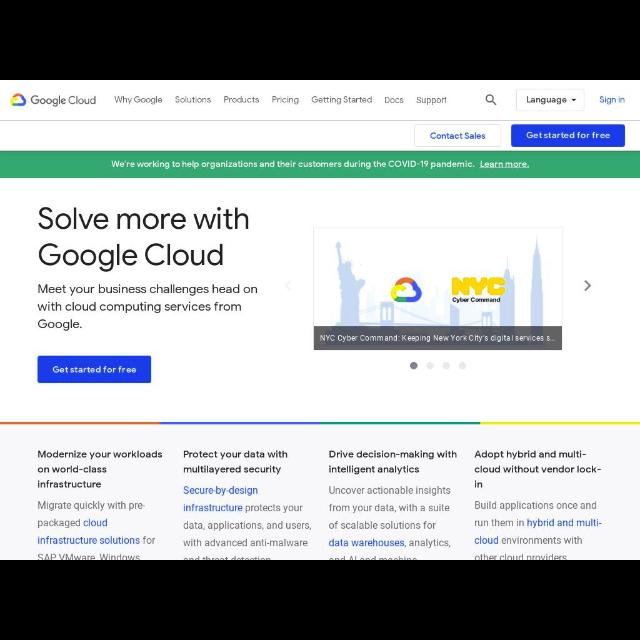icon: (582, 278, 592, 292), (486, 94, 496, 106), (570, 96, 578, 104)
image: (313, 228, 563, 349), (12, 92, 26, 108)
link: (38, 534, 140, 546), (185, 484, 258, 500), (330, 536, 404, 548), (528, 518, 602, 526), (183, 503, 243, 512), (480, 160, 530, 170), (82, 516, 110, 530), (474, 536, 502, 546)
multitab: (107, 84, 455, 114)
pageindicator: (409, 361, 468, 372)
spinner: (516, 89, 584, 113)
text: (35, 204, 251, 272), (35, 284, 259, 334), (328, 484, 452, 560), (184, 485, 310, 559), (473, 501, 603, 559), (36, 501, 156, 559), (38, 449, 164, 493), (474, 451, 602, 492), (111, 160, 475, 172), (329, 448, 456, 478), (184, 449, 288, 477), (31, 93, 97, 109), (310, 95, 374, 106), (113, 92, 163, 106), (525, 95, 567, 106), (175, 94, 212, 106), (599, 94, 627, 106), (417, 96, 448, 106), (271, 95, 301, 105), (223, 96, 259, 104), (384, 95, 404, 106)
textbutton: (36, 355, 152, 383), (512, 124, 626, 146), (414, 124, 502, 148)
